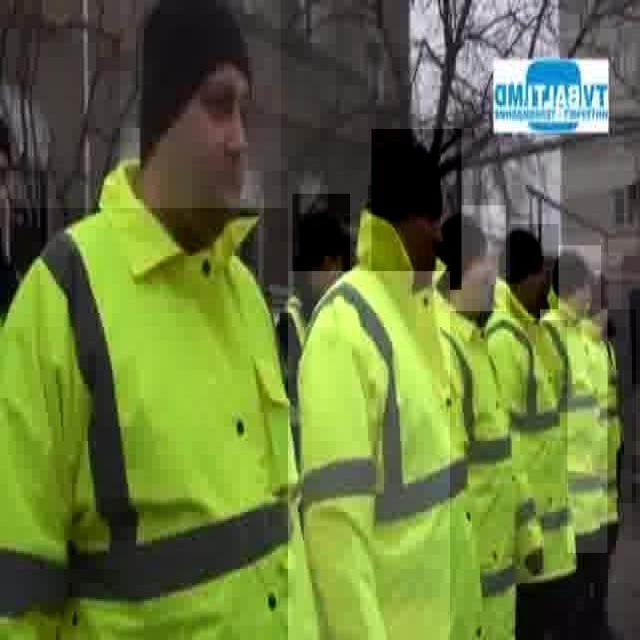Helmet: (0, 208, 288, 640), (279, 271, 450, 640), (120, 0, 281, 220), (440, 311, 508, 622), (540, 309, 608, 553), (508, 320, 568, 590), (372, 129, 462, 290), (279, 289, 334, 474), (585, 310, 636, 504), (438, 205, 506, 332), (292, 194, 350, 319), (510, 224, 558, 318), (554, 245, 601, 322), (592, 252, 622, 342)
